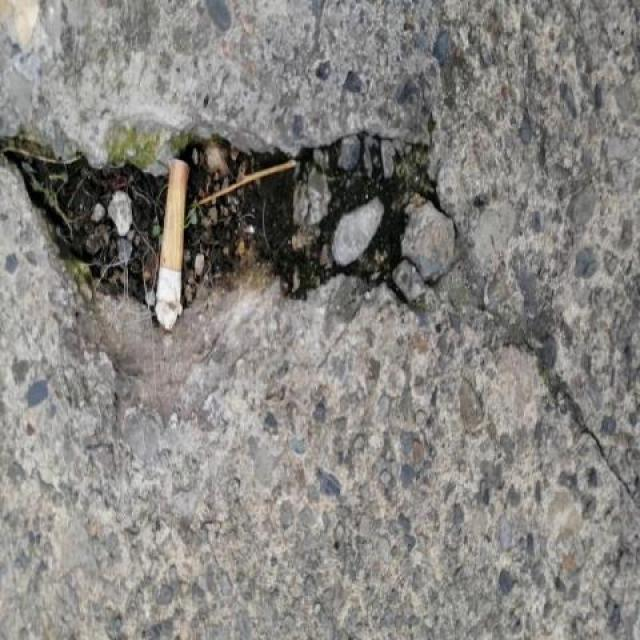non-organic waste: (150, 148, 194, 332)
